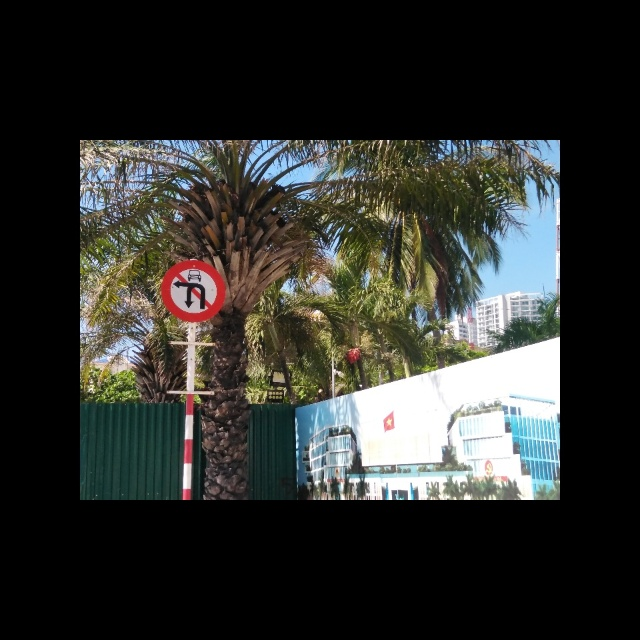Cấm xe ô tô quay đầu và rẽ trái: (160, 260, 230, 322)
